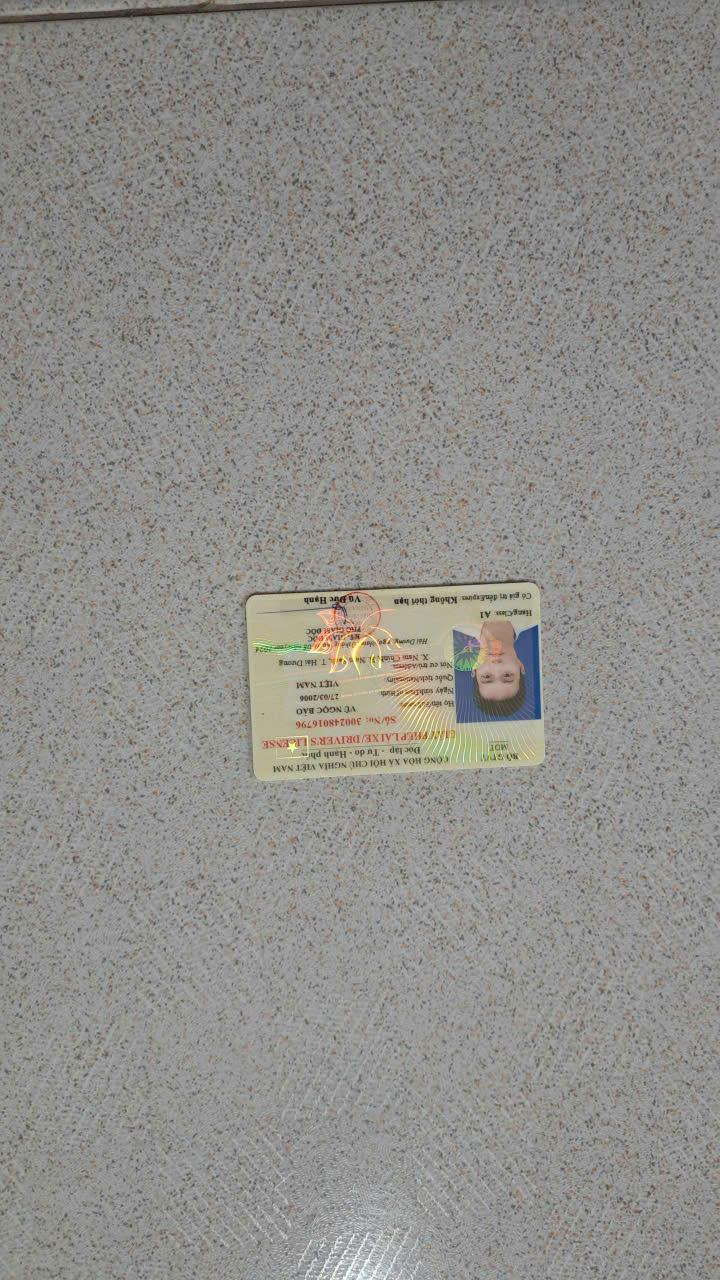gplx: (232, 575, 550, 787)
